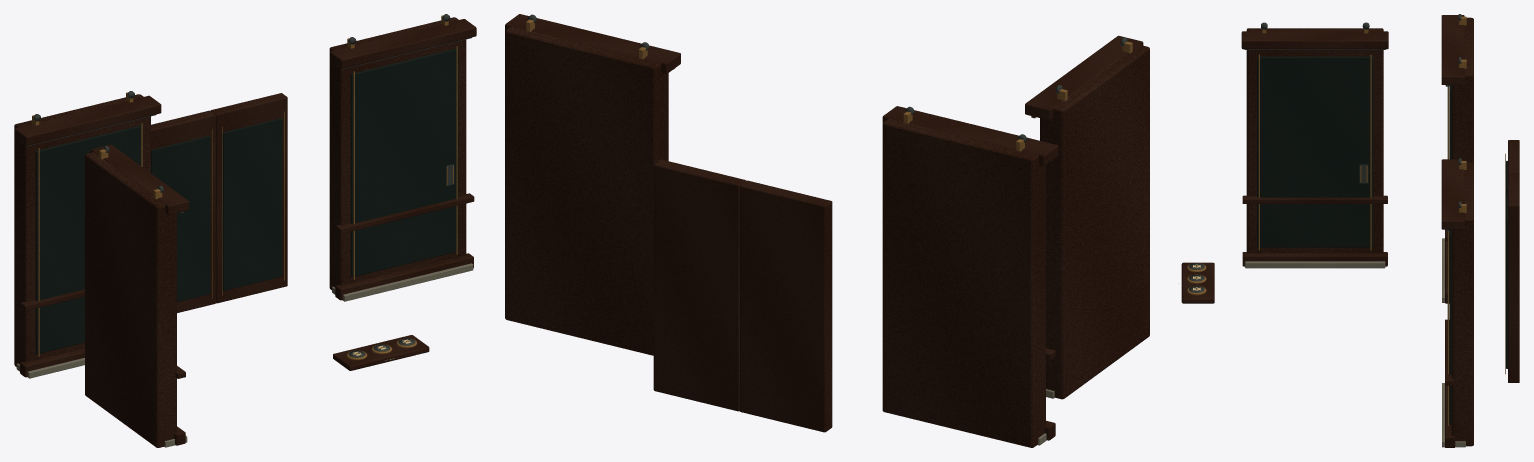
File: shifting-mechanism.glb
3 views of the same model, side by side, from view 1: azimuth 30°, elevation 25°; view 2: azimuth 150°, elevation 25°; view 3: azimuth 270°, elevation 25° (orthographic). The views are drawn at different scales.
Parts seen in each view (by area): view 1: Ledger_Shifting_Walls / Walnut.001, Shifting plaster wall field 1, Ledger_Shifting_Walls / Walnut.002, Shifting plaster wall field 0, Ledger_Shifting_Walls / Walnut, Concealing wall green inset.001, Concealing wall green inset, Concealing archive wall leaf.001, Concealing archive wall leaf, Archive seal console, Moving wall limestone foot.001, Ledger_Shifting_Walls / Aged brass.001 (+2 smaller); view 2: Ledger_Shifting_Walls / Walnut, Ledger_Shifting_Walls / Walnut.002, Ledger_Shifting_Walls / Walnut.001, Concealing archive wall leaf, Concealing archive wall leaf.001; view 3: Shifting plaster wall field 2, Ledger_Shifting_Walls / Walnut.001, Ledger_Shifting_Walls / Walnut.002, Ledger_Shifting_Walls / Walnut, Concealing archive wall leaf.001, Moving wall limestone foot.002, Archive seal console, Ledger_Shifting_Walls / Aged brass, Shifting plaster wall field 1, Ledger_Shifting_Walls / Aged brass.001, Ledger_Shifting_Walls / Engraved charcoal.002, Concealing archive wall leaf (+1 smaller).
Boxes of the visible parts, <box> form: Ledger_Shifting_Walls / Walnut.001: <box>85,144,189,447</box>; Shifting plaster wall field 1: <box>350,48,458,277</box>; Ledger_Shifting_Walls / Walnut.002: <box>329,17,476,300</box>; Shifting plaster wall field 0: <box>35,125,142,354</box>; Ledger_Shifting_Walls / Walnut: <box>14,94,161,377</box>; Concealing wall green inset.001: <box>222,118,282,290</box>; Concealing wall green inset: <box>151,135,210,302</box>; Concealing archive wall leaf.001: <box>210,93,287,303</box>; Concealing archive wall leaf: <box>151,110,215,312</box>; Archive seal console: <box>333,335,429,370</box>; Moving wall limestone foot.001: <box>332,263,473,301</box>; Ledger_Shifting_Walls / Aged brass.001: <box>347,15,457,279</box>; Ledger_Shifting_Walls / Walnut: <box>882,106,1058,447</box>; Ledger_Shifting_Walls / Walnut.002: <box>505,14,680,355</box>; Ledger_Shifting_Walls / Walnut.001: <box>1025,35,1149,399</box>; Concealing archive wall leaf: <box>740,180,832,432</box>; Concealing archive wall leaf.001: <box>653,159,745,411</box>; Shifting plaster wall field 2: <box>1257,56,1373,247</box>; Ledger_Shifting_Walls / Walnut.001: <box>1241,28,1388,266</box>; Ledger_Shifting_Walls / Walnut.002: <box>1441,159,1473,447</box>; Ledger_Shifting_Walls / Walnut: <box>1441,15,1473,303</box>; Concealing archive wall leaf.001: <box>1508,173,1519,382</box>; Moving wall limestone foot.002: <box>1245,261,1385,268</box>; Archive seal console: <box>1181,262,1214,303</box>; Ledger_Shifting_Walls / Aged brass: <box>1258,29,1371,250</box>; Shifting plaster wall field 1: <box>1449,229,1451,424</box>; Ledger_Shifting_Walls / Aged brass.001: <box>1447,161,1466,425</box>; Ledger_Shifting_Walls / Engraved charcoal.002: <box>1244,22,1385,183</box>; Concealing archive wall leaf: <box>1508,140,1519,173</box>.
Size of the model in its own units: 6.52 by 3.57 by 4.56.
7 materials, 5 textured.
